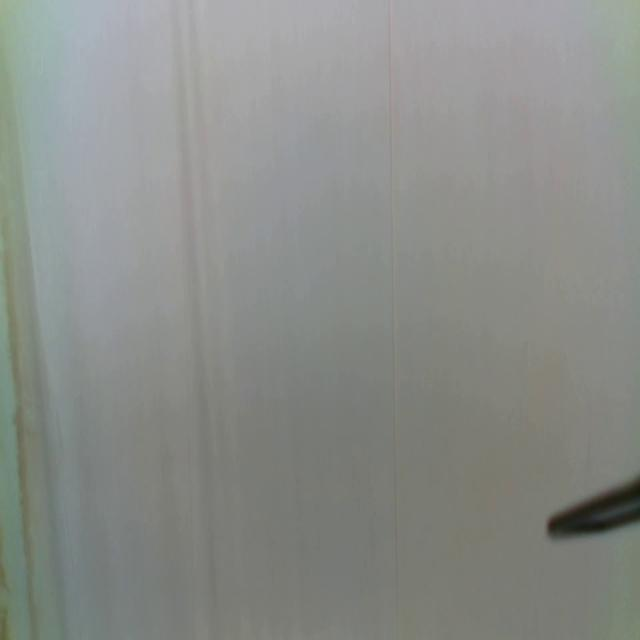color bleeding: (0, 60, 46, 636)
crease: (386, 2, 402, 640)
